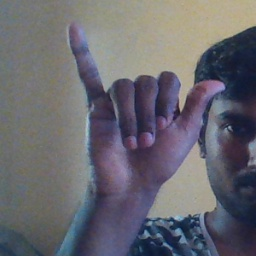J: (67, 20, 226, 191)
